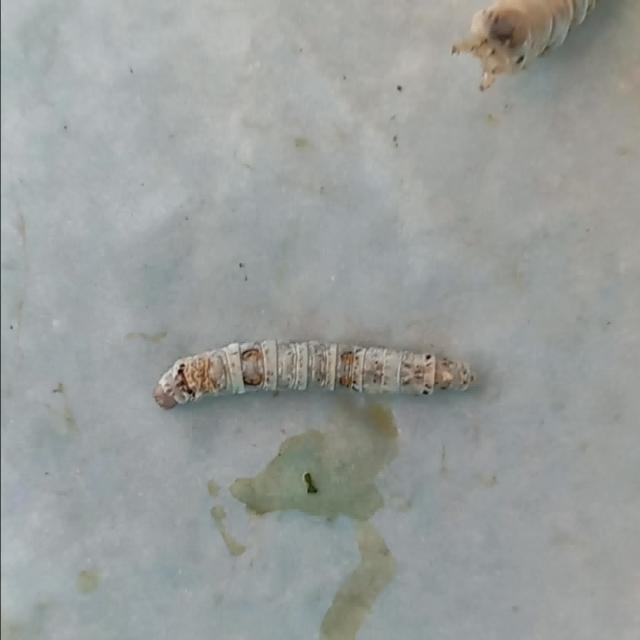Grasserie: (148, 318, 477, 446)
